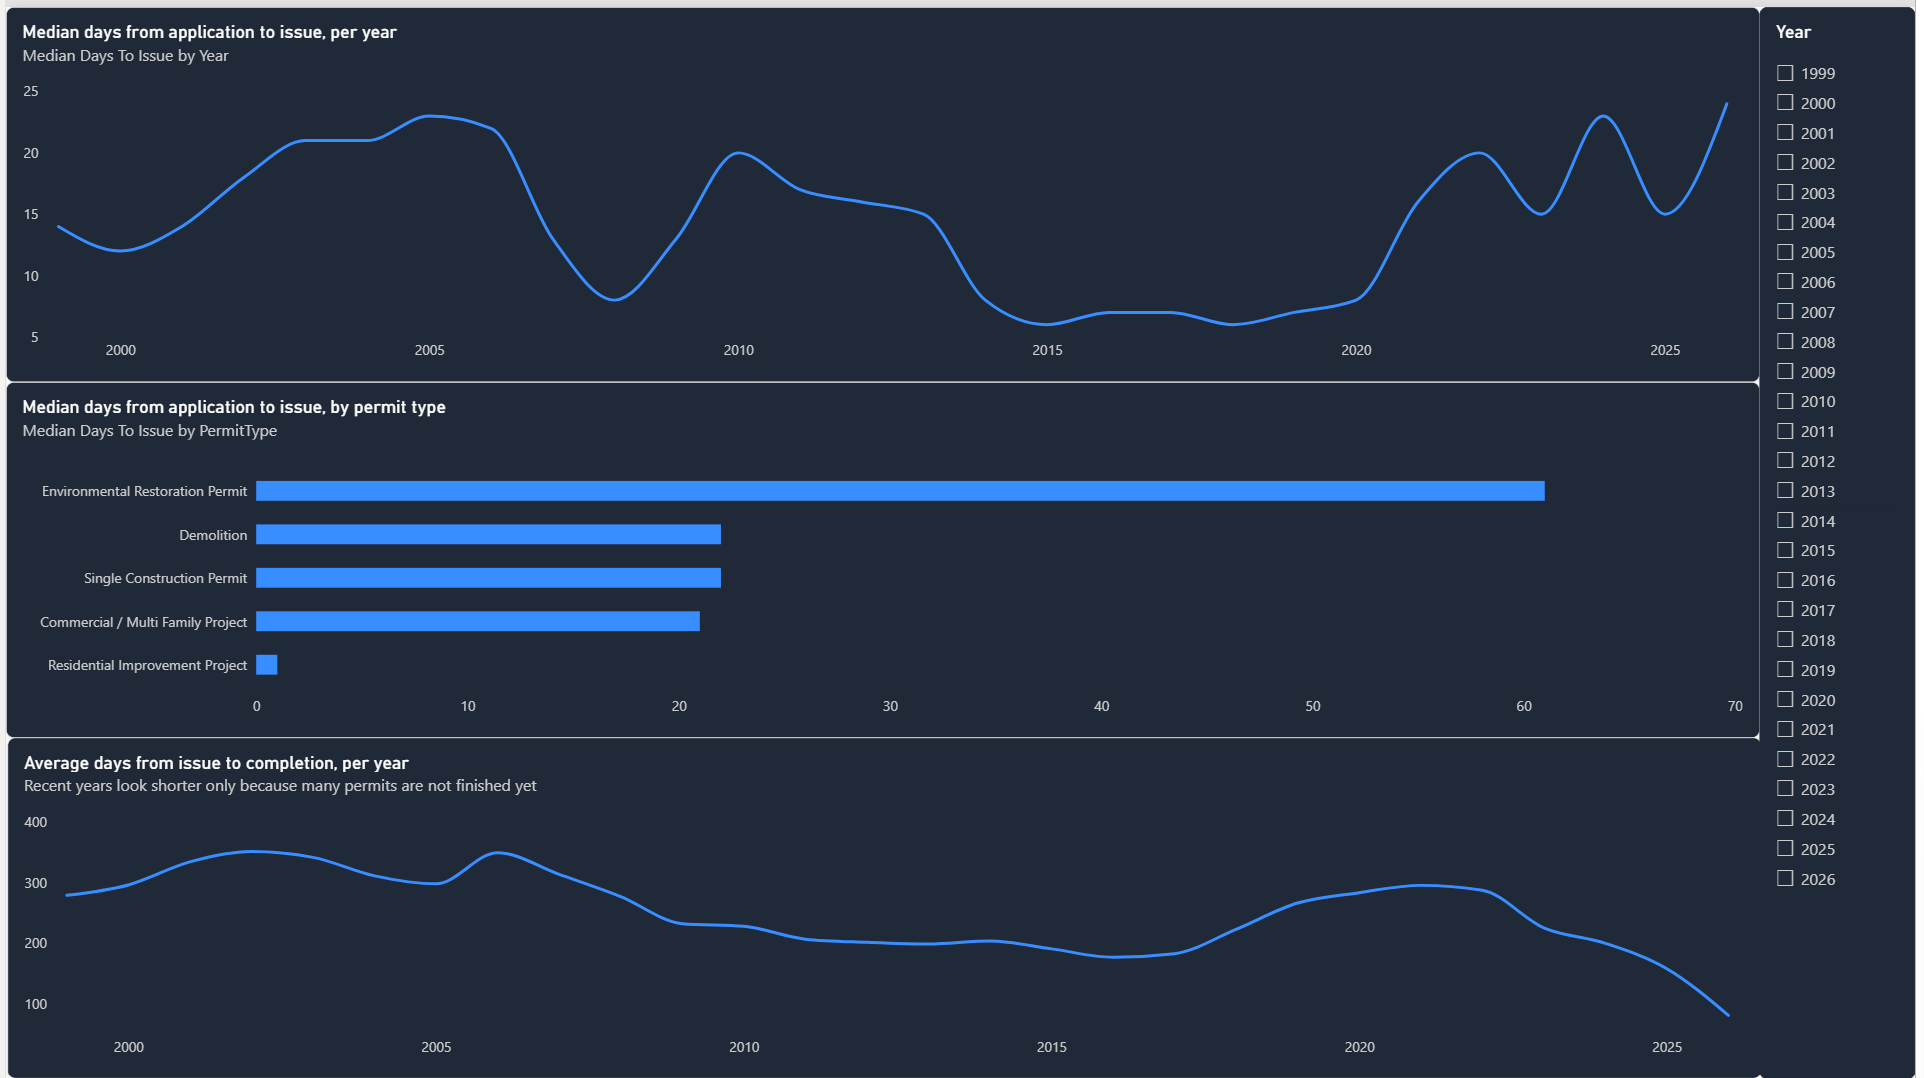

The dashboard page shown, as its layout file describes it:
{"tool":"powerbi","page":{"name":"Processing time","canvas":[1920,1080],"ordinal":2},"visuals":[{"type":"lineChart","title":"Median days from application to issue, per year","fields":{"Category":["Calendar.Year"],"Y":["Permits.Median Days To Issue"]},"box":[0,0,1764.2,377.2],"z":0},{"type":"clusteredBarChart","title":"Median days from application to issue, by permit type","fields":{"Category":["Permits.PermitType"],"Y":["Permits.Median Days To Issue"]},"box":[0,377.2,1764.2,358],"z":1000},{"type":"lineChart","title":"Average days from issue to completion, per year","fields":{"Category":["Calendar.Year"],"Y":["Permits.Avg Days Issue To Comlete"]},"box":[1.7,735.2,1764.2,344.1],"z":2000},{"type":"listSlicer","fields":{"Values":["Calendar.Year"]},"box":[1763.6,0,156.4,1079.4],"z":2001}]}

Visuals, with their boxes in screenshot pixels (x1, y1, x2, y2), scaled from the page's 1920x1080 canvas onto the 1924x1078 screenshot:
"Median days from application to issue, per year" lineChart: rect(0, 0, 1768, 377)
"Median days from application to issue, by permit type" clusteredBarChart: rect(0, 377, 1768, 734)
"Average days from issue to completion, per year" lineChart: rect(2, 734, 1770, 1077)
listSlicer - Calendar.Year: rect(1767, 0, 1923, 1077)
